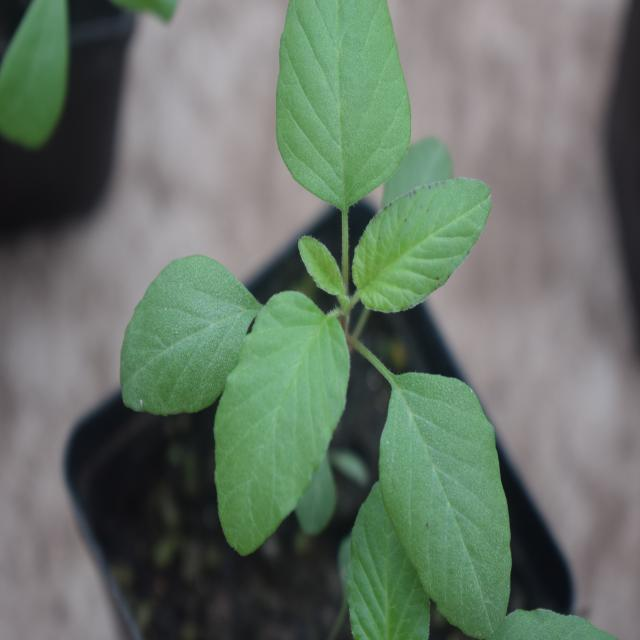pigweed: (110, 0, 532, 606)
